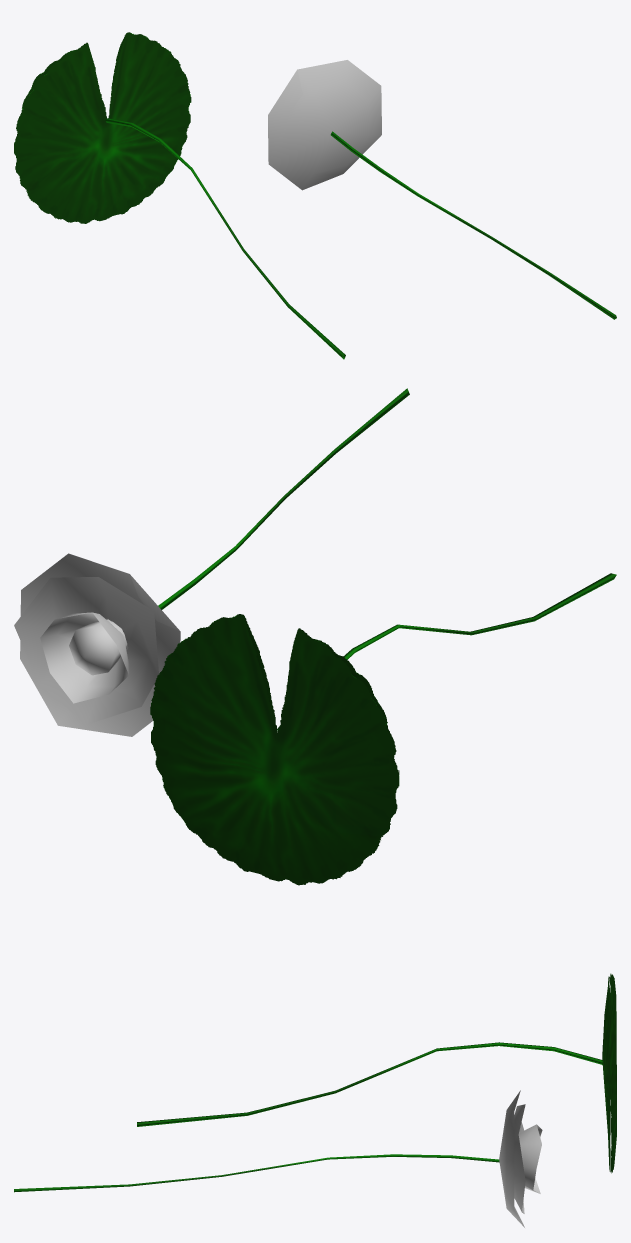
Rendered from Waterlily&Lilypad.FBX.
The picture shows the model from 3 angles, top to bottom: view 1: azimuth 30°, elevation 25°; view 2: azimuth 150°, elevation 25°; view 3: azimuth 270°, elevation 25°; orthographic projection. The views are drawn at different scales.
Parts seen in each view (by area): view 1: Lilypad, Flower; view 2: Lilypad, Flower; view 3: Flower, Lilypad.
Part boxes in pixels (x1=…): Lilypad: x1=14, y1=32, x2=345, y2=359; Flower: x1=268, y1=60, x2=616, y2=319; Lilypad: x1=150, y1=573, x2=616, y2=885; Flower: x1=14, y1=388, x2=409, y2=736; Flower: x1=14, y1=1090, x2=542, y2=1227; Lilypad: x1=137, y1=973, x2=616, y2=1173.
Bounding box in the file's own units: 13.09 × 21.85 × 7.28.
